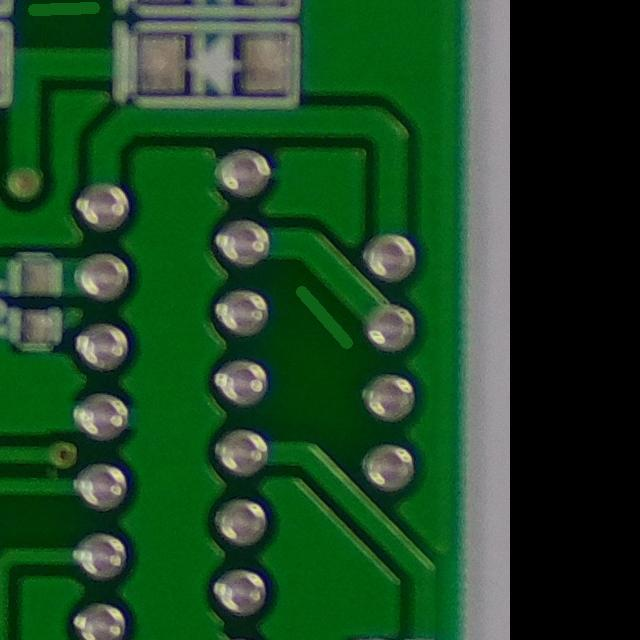spurious_copper: (278, 273, 363, 368)
